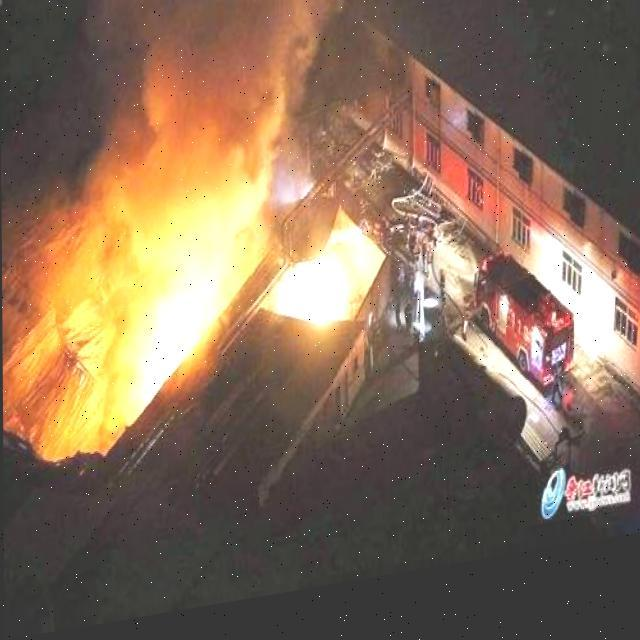Fire: (122, 278, 225, 422), (276, 254, 360, 352)
